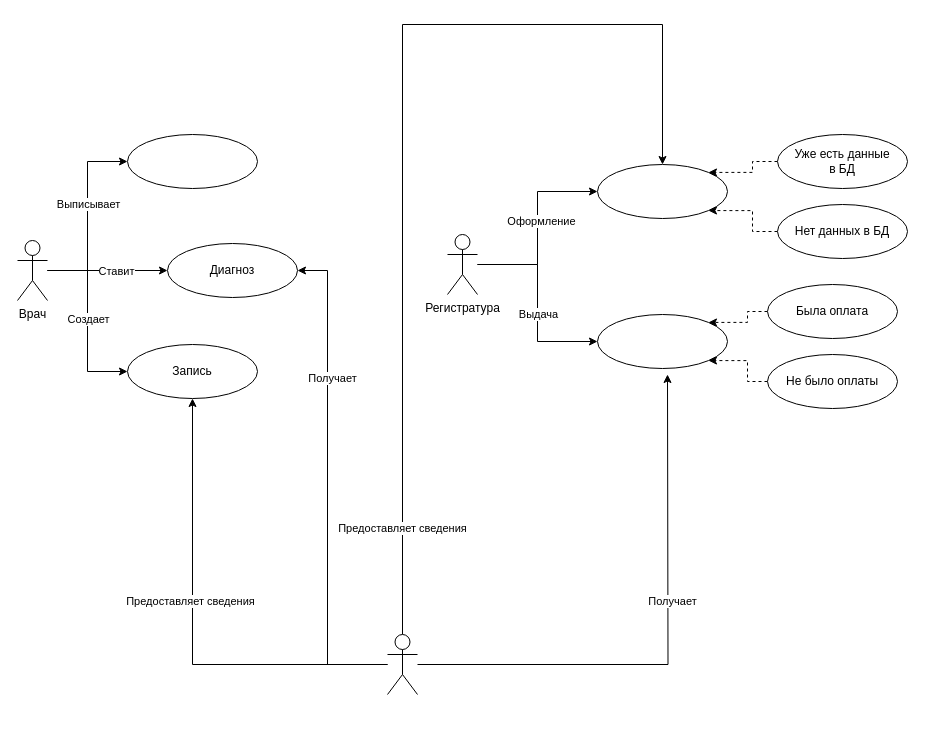
The diagram is 925 pixels wide and 733 high, and some of its shapes have lost their labels. The centre of each missing label's shape, as x and y in pixels:
"Лечение" goes at (x=192, y=161).
"Личная карточка" goes at (x=662, y=191).
"Пациент" goes at (x=402, y=664).
"Справка/Результаты обследования" goes at (x=662, y=341).
